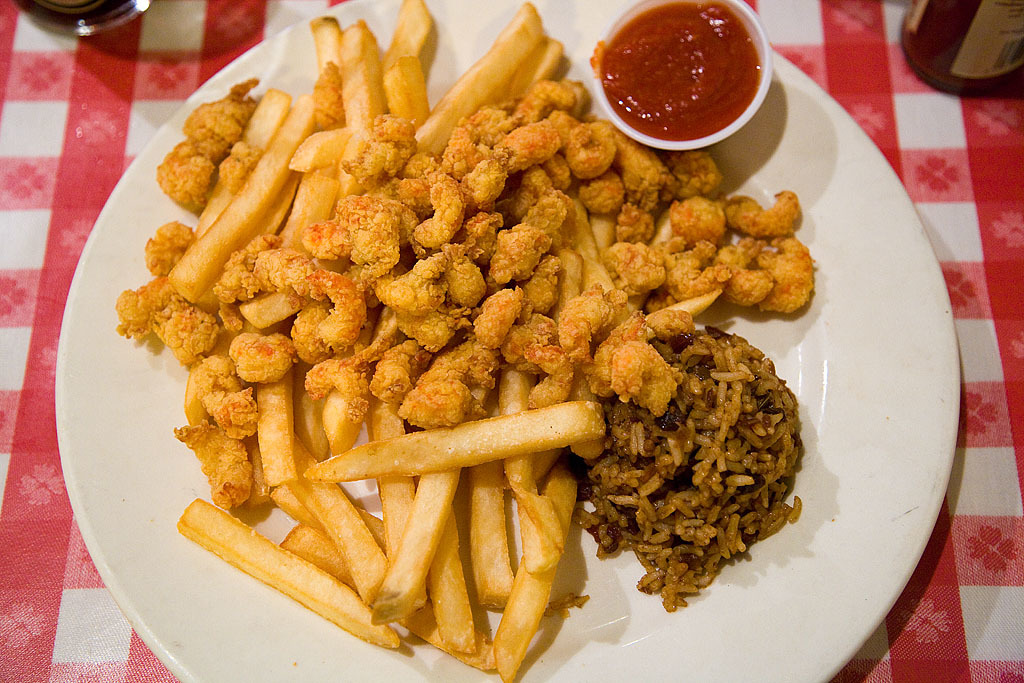French fries: (161, 0, 732, 682)
